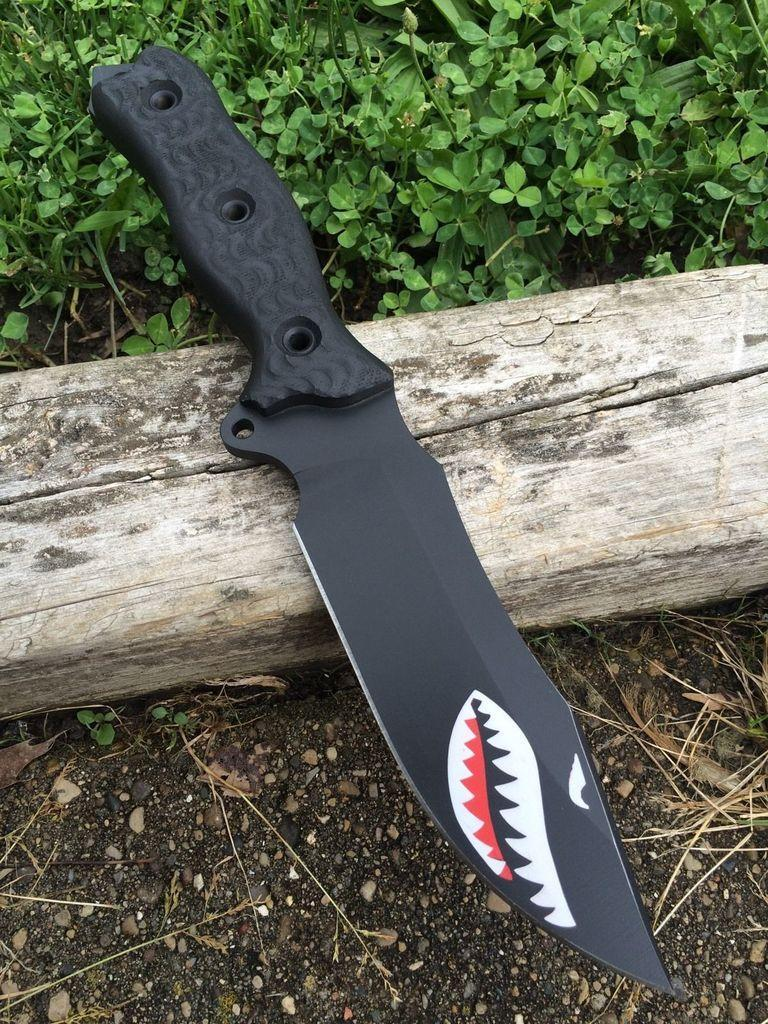melee: (93, 43, 674, 990)
